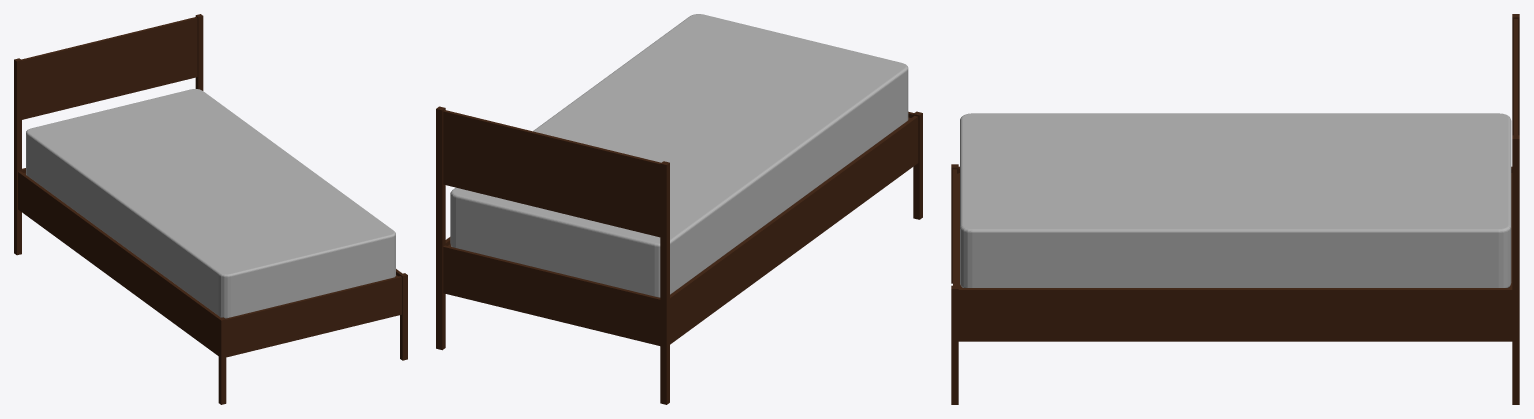
The model's file is bed.glb.
3 views of the same model, side by side, from view 1: azimuth 30°, elevation 25°; view 2: azimuth 150°, elevation 25°; view 3: azimuth 270°, elevation 25° (orthographic). The views are drawn at different scales.
Visible parts, largest first — view 1: Mattress, BedFrame; view 2: Mattress, BedFrame; view 3: Mattress, BedFrame.
Boxes of the visible parts, x1,y1,x2,y2 form: Mattress: [26, 89, 395, 318]; BedFrame: [14, 14, 407, 404]; Mattress: [450, 14, 908, 297]; BedFrame: [436, 106, 922, 404]; Mattress: [960, 113, 1511, 287]; BedFrame: [951, 14, 1519, 404].
Size of the model in its own units: 1.02 by 1.01 by 1.96.
